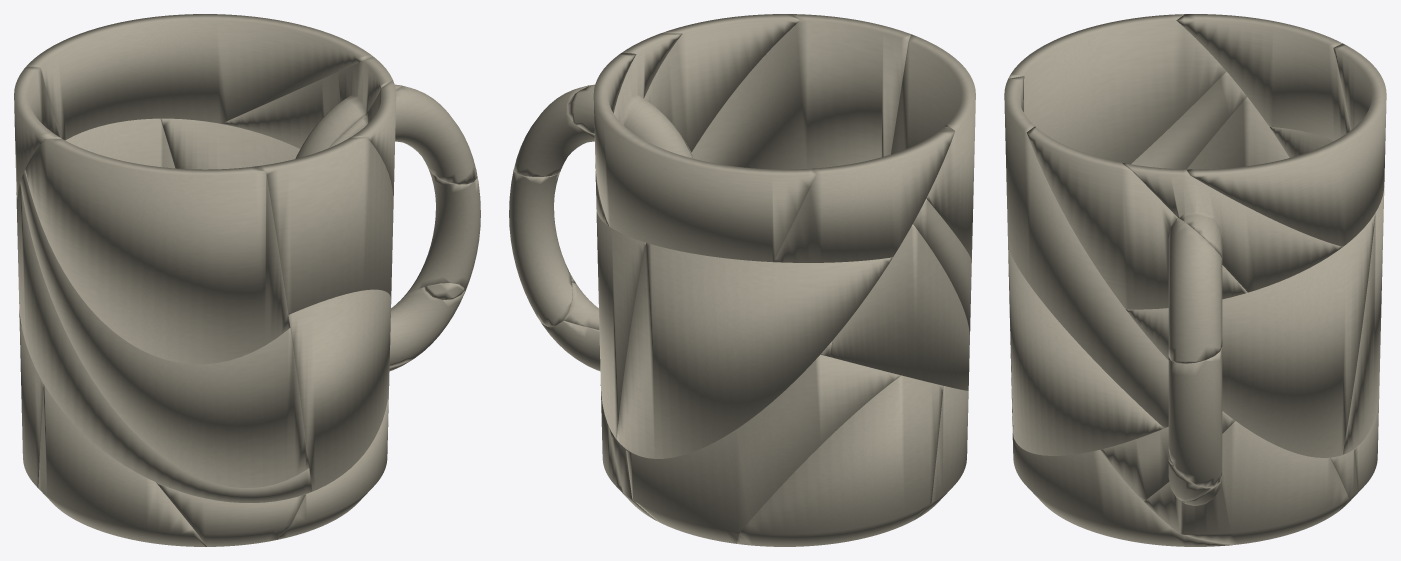
File: fracture-solids.glb
The picture shows the model from 3 angles, left to right: view 1: azimuth 30°, elevation 25°; view 2: azimuth 150°, elevation 25°; view 3: azimuth 270°, elevation 25°; orthographic projection.
Visible parts, largest first — view 1: fragment-006, fragment-022, fragment-016, fragment-011, fragment-010, fragment-017, fragment-018, fragment-014, fragment-015, fragment-003, fragment-009, fragment-012 (+5 smaller); view 2: fragment-008, fragment-011, fragment-022, fragment-019, fragment-013, fragment-015, fragment-017, fragment-023, fragment-006, fragment-003, fragment-009, fragment-014 (+5 smaller); view 3: fragment-009, fragment-015, fragment-006, fragment-011, fragment-022, fragment-010, fragment-020, fragment-023, fragment-014, fragment-007, fragment-003, fragment-008 (+5 smaller).
Boxes of the visible parts, box(x1,y1,x2,y2) form: fragment-006: box(25, 139, 290, 364); fragment-022: box(26, 14, 372, 140); fragment-016: box(20, 170, 309, 487); fragment-011: box(253, 137, 393, 314); fragment-010: box(288, 289, 391, 491); fragment-017: box(17, 183, 312, 502); fragment-018: box(38, 384, 206, 546); fragment-014: box(221, 56, 403, 158); fragment-015: box(329, 80, 477, 197); fragment-003: box(403, 170, 480, 297); fragment-009: box(160, 118, 300, 169); fragment-012: box(156, 482, 305, 546); fragment-008: box(616, 242, 892, 458); fragment-011: box(691, 14, 910, 169); fragment-022: box(593, 52, 816, 262); fragment-019: box(736, 375, 943, 546); fragment-013: box(626, 354, 901, 543); fragment-015: box(514, 14, 800, 176); fragment-017: box(830, 224, 969, 390); fragment-023: box(774, 125, 955, 262); fragment-006: box(891, 34, 975, 260); fragment-003: box(509, 169, 572, 326); fragment-009: box(596, 212, 645, 439); fragment-014: box(567, 33, 693, 225); fragment-009: box(1126, 213, 1375, 457); fragment-015: box(1026, 126, 1247, 363); fragment-006: box(1008, 14, 1226, 164); fragment-011: box(1004, 76, 1168, 428); fragment-022: box(1186, 43, 1386, 246); fragment-010: box(1008, 244, 1164, 455); fragment-020: box(1144, 421, 1348, 544); fragment-023: box(1176, 14, 1350, 140); fragment-014: box(1122, 163, 1342, 292); fragment-007: box(1013, 435, 1232, 546); fragment-003: box(1168, 347, 1222, 488); fragment-008: box(1270, 127, 1384, 454).
Size of the model in its own units: 0.12 by 0.1004 by 0.0908.
1 material, 1 textured.
